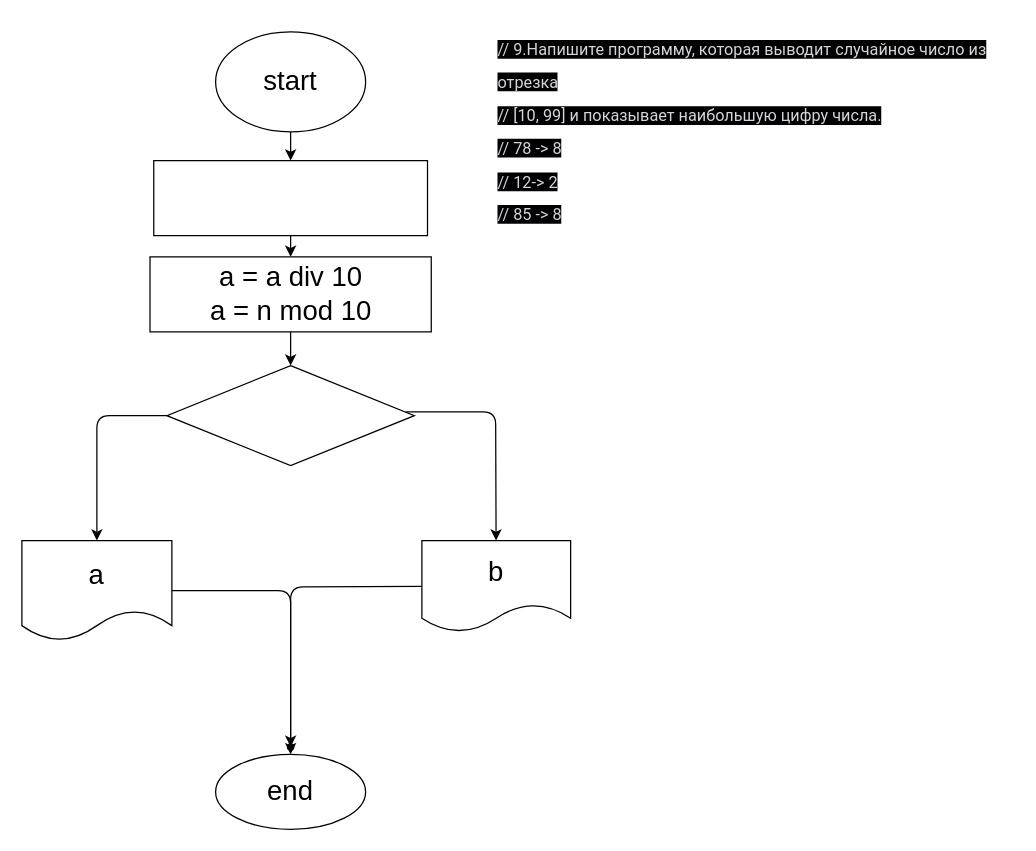
Image size: 1036x851. Some labels were removed from this diagram. The centre of each missing label's shape, as x and y in pixels:
"a > b" goes at (290,415).
"n = Random (10, 99)" goes at (290,197).
